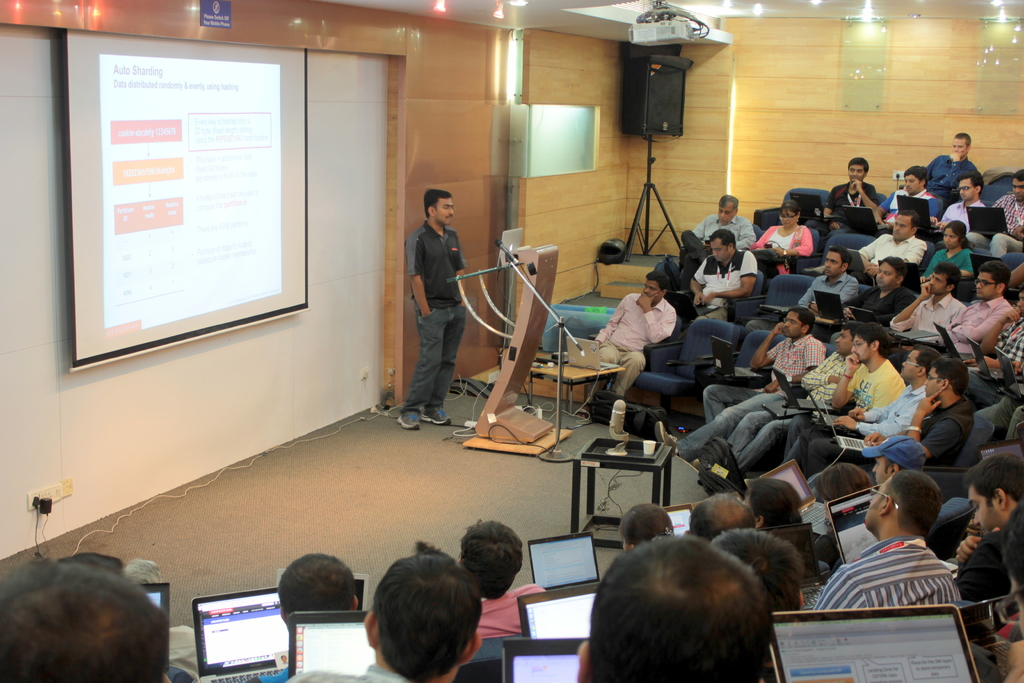Footwear: (656, 421, 676, 456), (397, 410, 421, 430), (424, 412, 452, 426)
